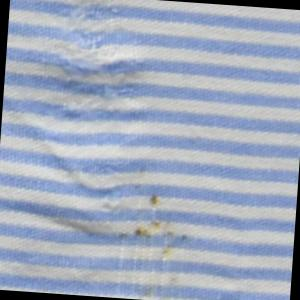Damage: (34, 1, 157, 129)
Oil Stain: (127, 186, 194, 300)
Wrinkle: (1, 102, 140, 251)
